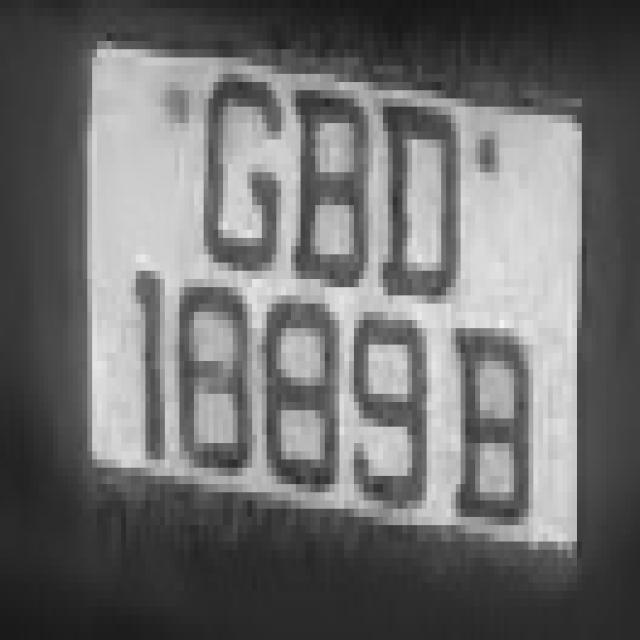1: (121, 238, 175, 484)
8: (248, 279, 340, 533), (175, 254, 257, 476)
9: (354, 287, 441, 542)
B: (451, 304, 543, 542), (291, 74, 373, 312)
D: (383, 73, 461, 344)
G: (189, 66, 291, 295)
